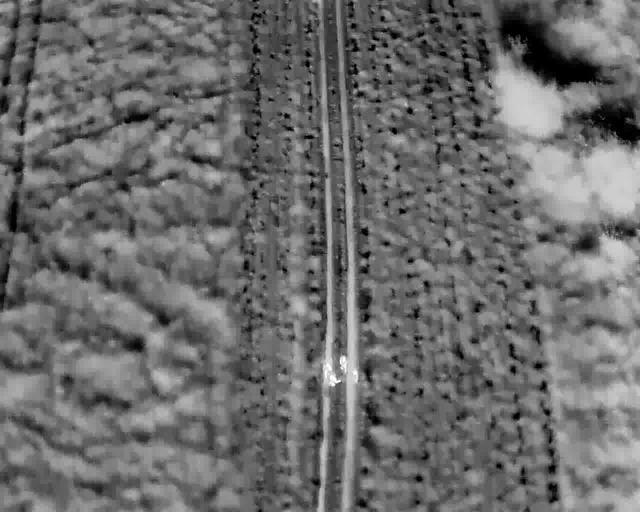person: (327, 370, 343, 388), (350, 365, 361, 385), (338, 353, 349, 373), (322, 362, 333, 382)
